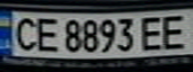3: (115, 15, 139, 53)
8: (60, 17, 84, 53), (78, 17, 100, 54)
9: (96, 17, 121, 54)
C: (6, 15, 42, 52)
E: (154, 11, 193, 51), (136, 12, 172, 52), (30, 15, 63, 53)
